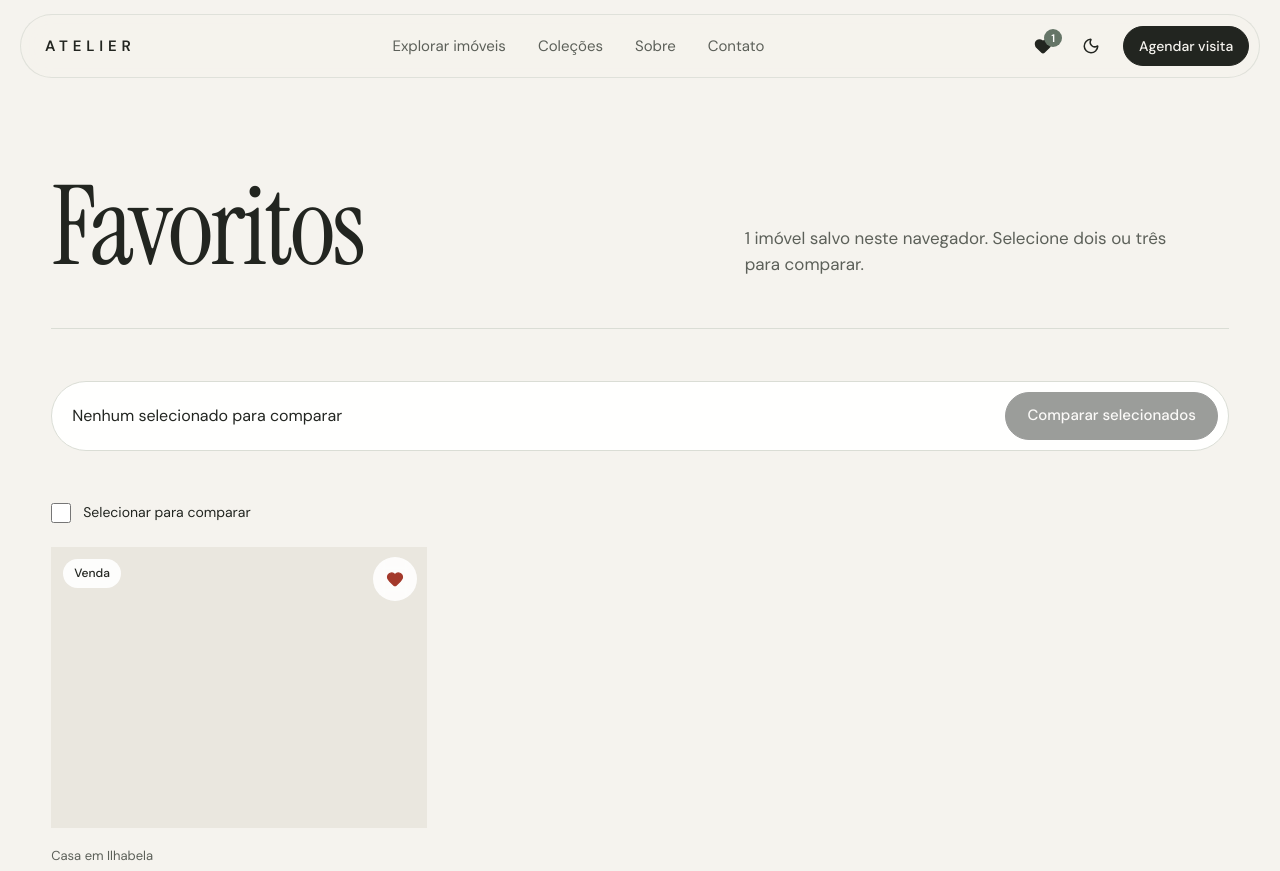
Test: Favoritos › salva no localStorage e aparece na página de favoritos
Earlier steps of the test are not shown.
Click the button named "Remover Casa Falésia dos favoritos": (395, 579) [373,557,417,601]
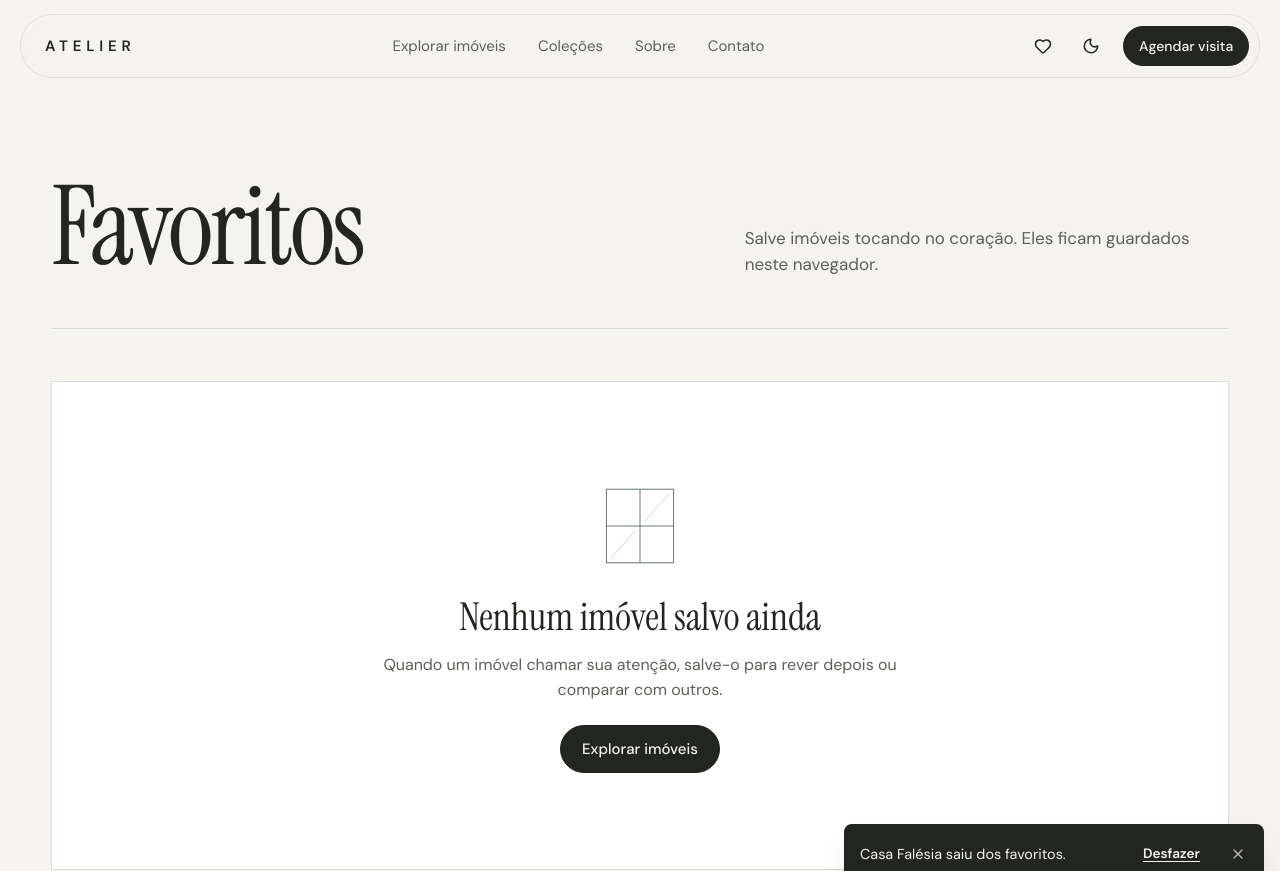
Now the heading "Nenhum imóvel salvo ainda" is shown, box [459,596,821,638]
